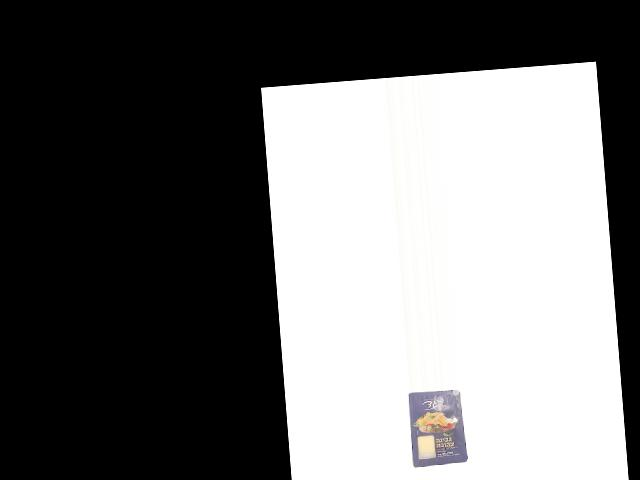cheese: (407, 387, 469, 467)
